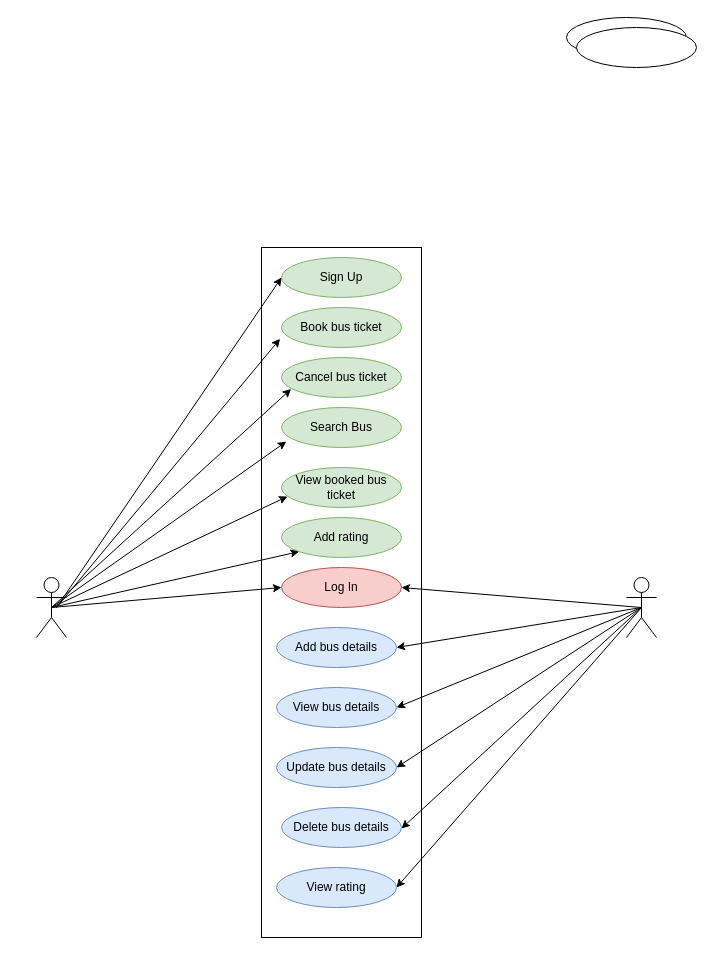
This 714x955 diagram has some shape labels left out. Each missing label, with the box of its shape:
ADMIN: (626, 576, 656, 638)
CUSTOMER: (36, 576, 66, 638)
